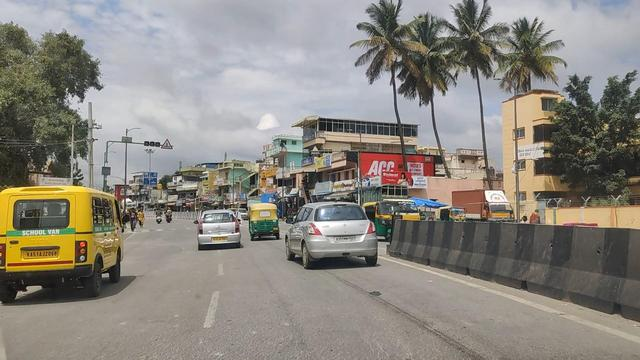LMV: (0, 154, 128, 309), (288, 194, 400, 278), (191, 200, 254, 269), (245, 193, 294, 250)
